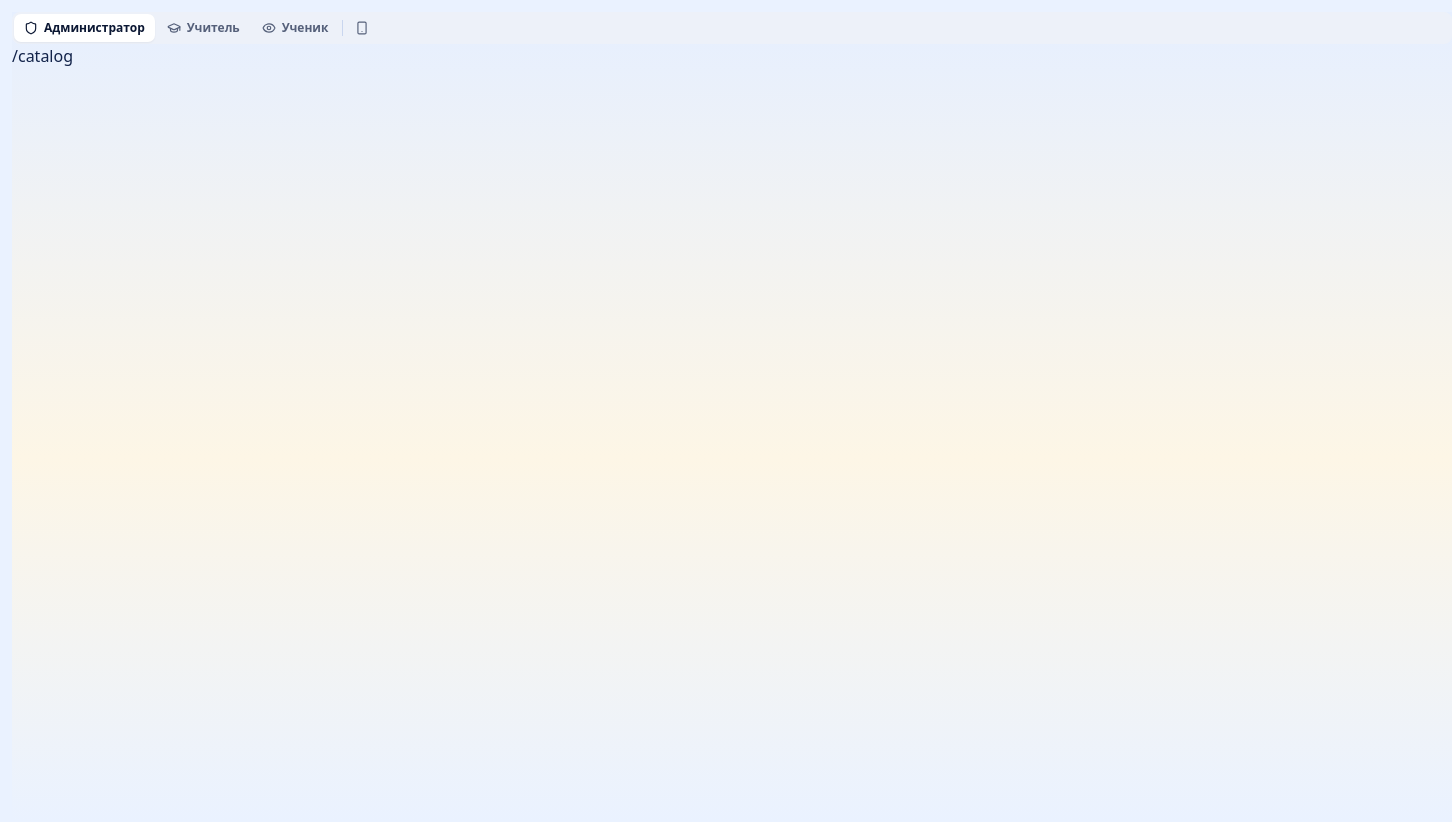
Переключатель с режимом «Ученик» (§178) › посреди работы (не на дашборде) переключение не выбрасывает со страницы
Step 1. Click the button with test id "staff-mode-student" → (295, 28), box [252,14,338,42]
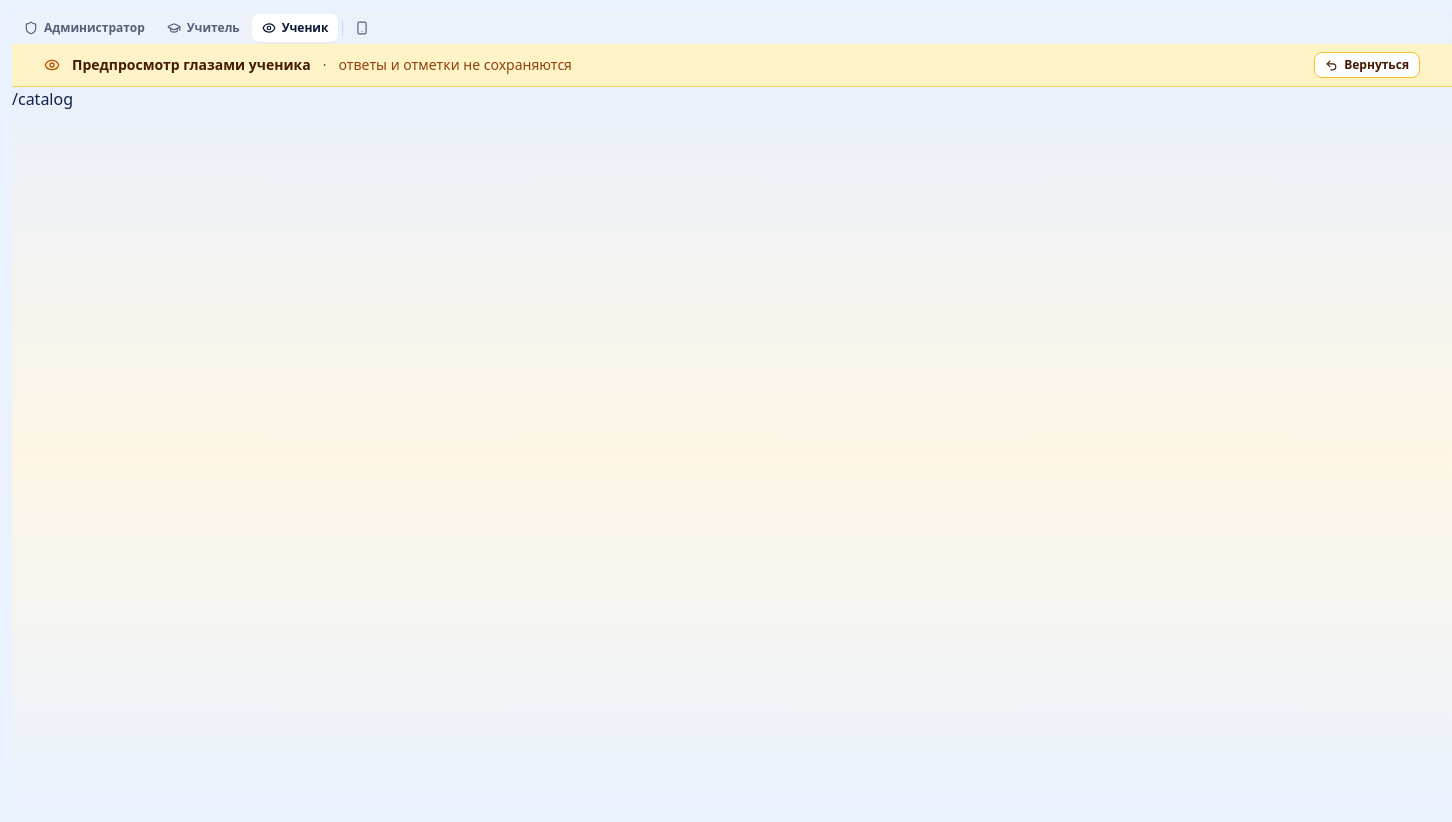
expect the text with test id "where" reads "/catalog": met, box [12,88,73,110]
expect the message "Предпросмотр глазами ученика · ответы и отметки не сохраняются Вернуться" is shown: met, box [12,44,1451,87]
